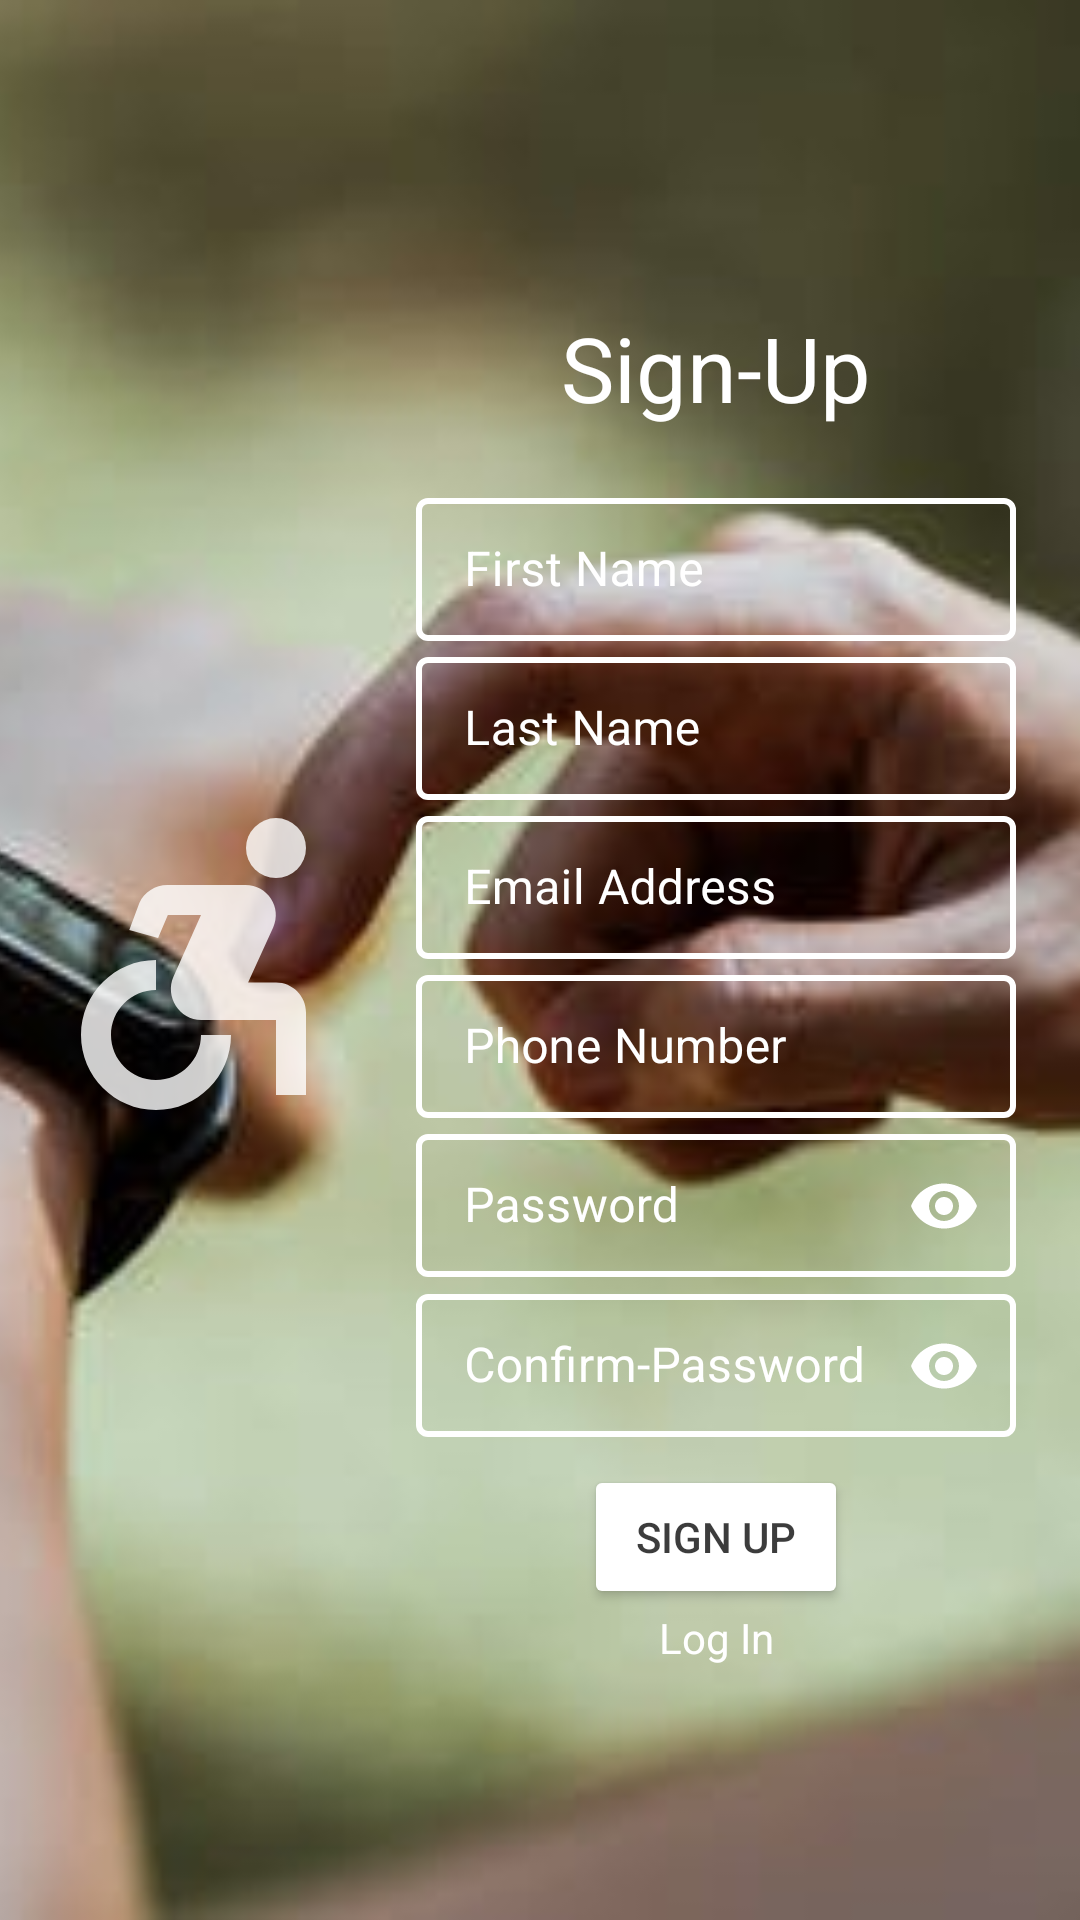

Screen size 1080×1920. Icon name, then its center in pixels as [x,y]:
disability: [201,960]
